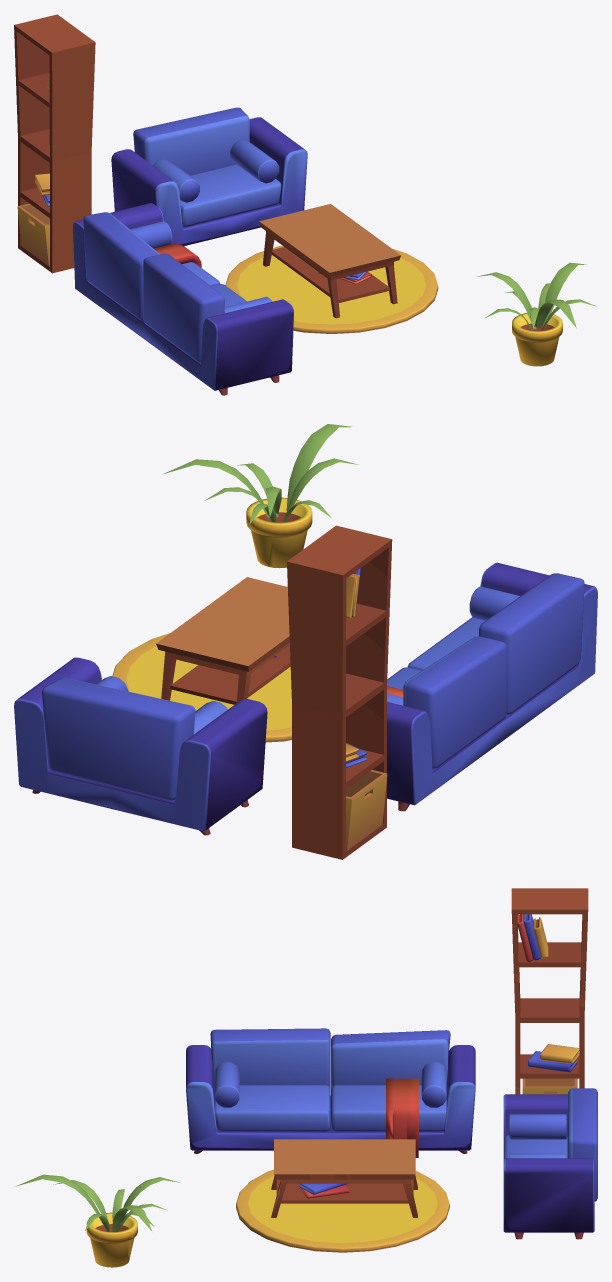
File: livingroom.fbx
3 views of the same model, one above another, from view 1: azimuth 30°, elevation 25°; view 2: azimuth 150°, elevation 25°; view 3: azimuth 270°, elevation 25° (orthographic). The views are drawn at different scales.
Visible parts, largest first — view 1: Couch_ColorSprite_E_0, S_Couch_ColorSprite_E_0, BookShelves_ColorSprite_E_0, Table_ColorSprite_E_0, Circle_ColorSprite_E_0, Plant_ColorSprite_E_0; view 2: BookShelves_ColorSprite_E_0, Couch_ColorSprite_E_0, S_Couch_ColorSprite_E_0, Table_ColorSprite_E_0, Plant_ColorSprite_E_0, Circle_ColorSprite_E_0; view 3: Couch_ColorSprite_E_0, S_Couch_ColorSprite_E_0, BookShelves_ColorSprite_E_0, Circle_ColorSprite_E_0, Table_ColorSprite_E_0, Plant_ColorSprite_E_0.
Part boxes in pixels (x1,y1,x2,y2): Couch_ColorSprite_E_0: (73, 203, 293, 395); S_Couch_ColorSprite_E_0: (111, 107, 307, 245); BookShelves_ColorSprite_E_0: (14, 14, 95, 273); Table_ColorSprite_E_0: (259, 204, 400, 318); Circle_ColorSprite_E_0: (225, 245, 438, 333); Plant_ColorSprite_E_0: (477, 262, 596, 366); BookShelves_ColorSprite_E_0: (287, 525, 392, 859); Couch_ColorSprite_E_0: (387, 562, 597, 811); S_Couch_ColorSprite_E_0: (14, 657, 267, 835); Table_ColorSprite_E_0: (156, 577, 290, 704); Plant_ColorSprite_E_0: (162, 424, 358, 568); Circle_ColorSprite_E_0: (112, 633, 291, 742); Couch_ColorSprite_E_0: (186, 1028, 475, 1157); S_Couch_ColorSprite_E_0: (503, 1088, 597, 1239); BookShelves_ColorSprite_E_0: (511, 888, 588, 1094); Circle_ColorSprite_E_0: (236, 1169, 449, 1252); Table_ColorSprite_E_0: (271, 1139, 417, 1217); Plant_ColorSprite_E_0: (15, 1174, 179, 1267).
Size of the model in its own units: 458 by 281 by 642.
1 material, 1 textured.
